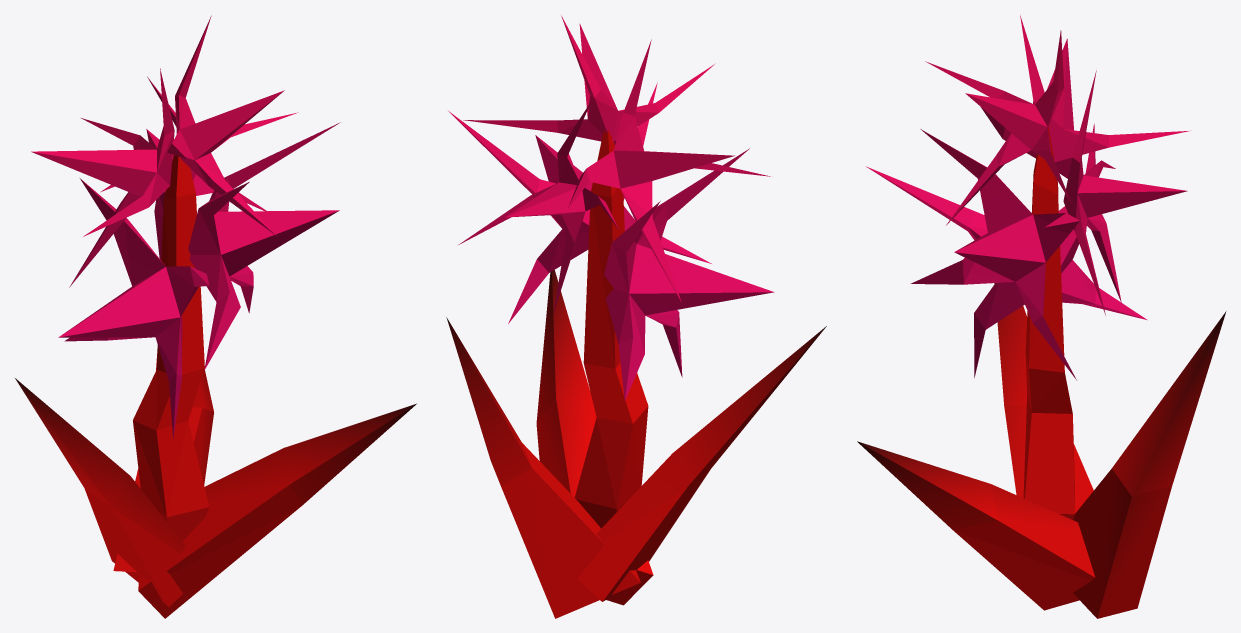
Rendered from Plant_1.fbx.
3 views of the same model, side by side, from view 1: azimuth 30°, elevation 25°; view 2: azimuth 150°, elevation 25°; view 3: azimuth 270°, elevation 25° (orthographic). The views are drawn at different scales.
Parts seen in each view (by area): view 1: SM_Plant_02; view 2: SM_Plant_02; view 3: SM_Plant_02.
Boxes of the visible parts, x1,y1,x2,y2 form: SM_Plant_02: [15, 15, 416, 618]; SM_Plant_02: [446, 15, 826, 618]; SM_Plant_02: [857, 15, 1226, 618].
Bounding box in the file's own units: 65 × 102 × 56.31.
